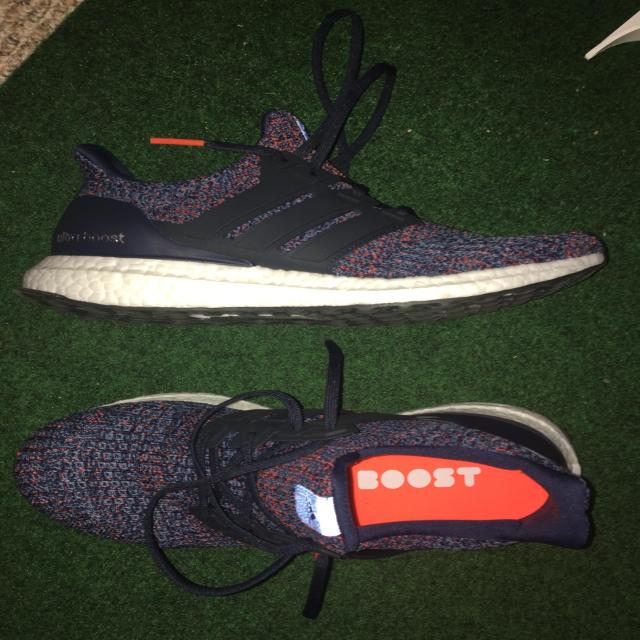shoe: (13, 62, 627, 340), (0, 345, 640, 604)
